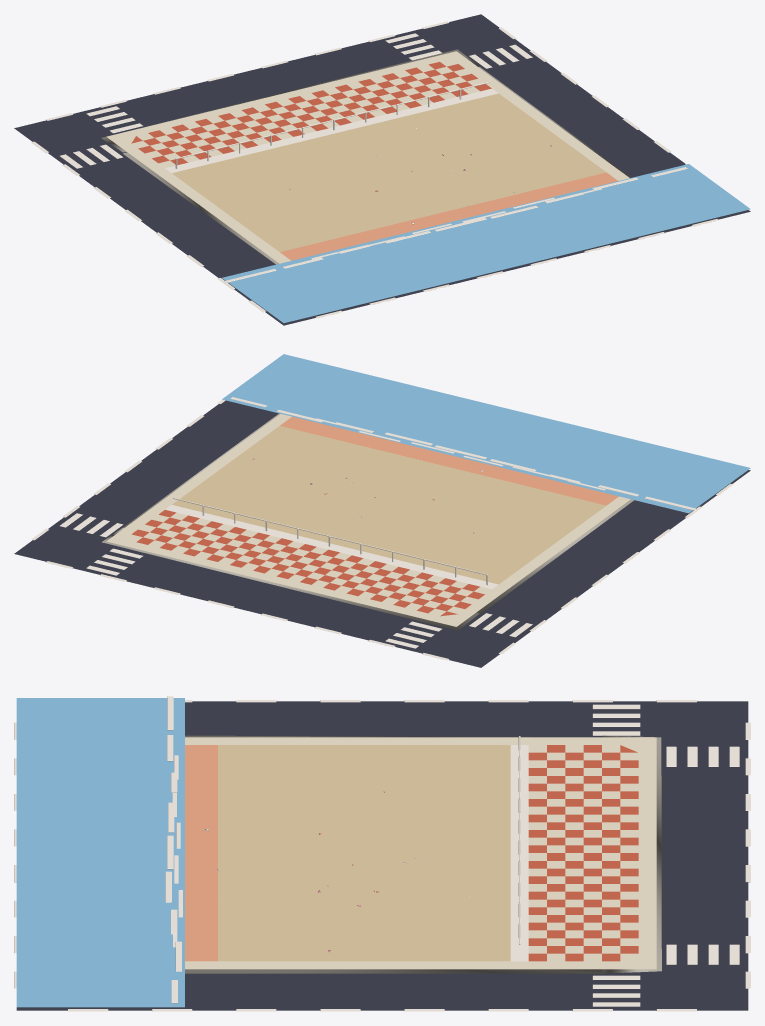
The model's file is tile_beach.glb.
3 renders of one model, top to bottom at view 1: azimuth 30°, elevation 25°; view 2: azimuth 150°, elevation 25°; view 3: azimuth 270°, elevation 25°, orthographic. The views are drawn at different scales.
Visible parts, largest first — view 1: tile_beach; view 2: tile_beach; view 3: tile_beach.
Boxes of the visible parts, x1,y1,x2,y2 form: tile_beach: (14, 14, 750, 325); tile_beach: (14, 354, 750, 667); tile_beach: (14, 696, 750, 1011).
Bounding box in the file's own units: 40.32 × 1.04 × 40.3.
Materials: 1 (1 with a texture image).
